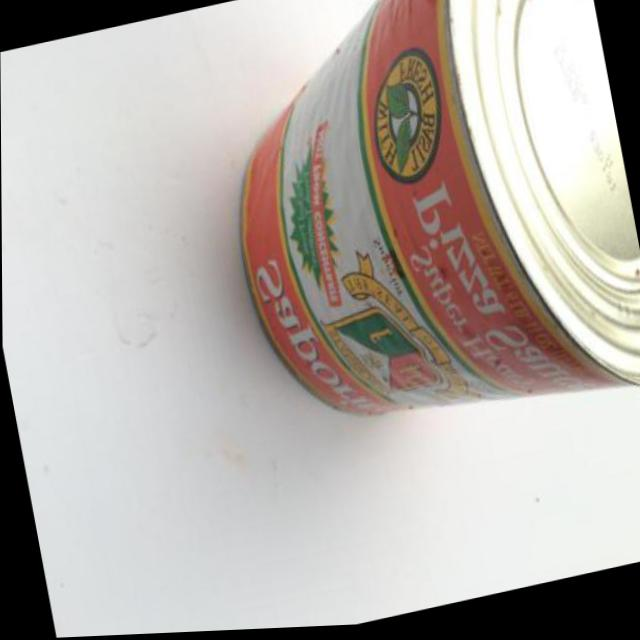metal: (190, 0, 640, 480)
